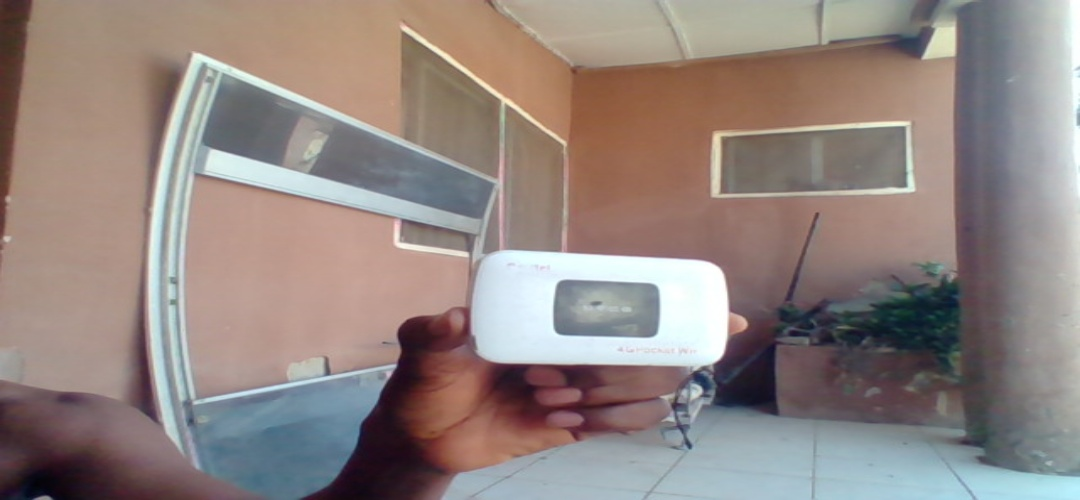mifi: (472, 247, 732, 367)
